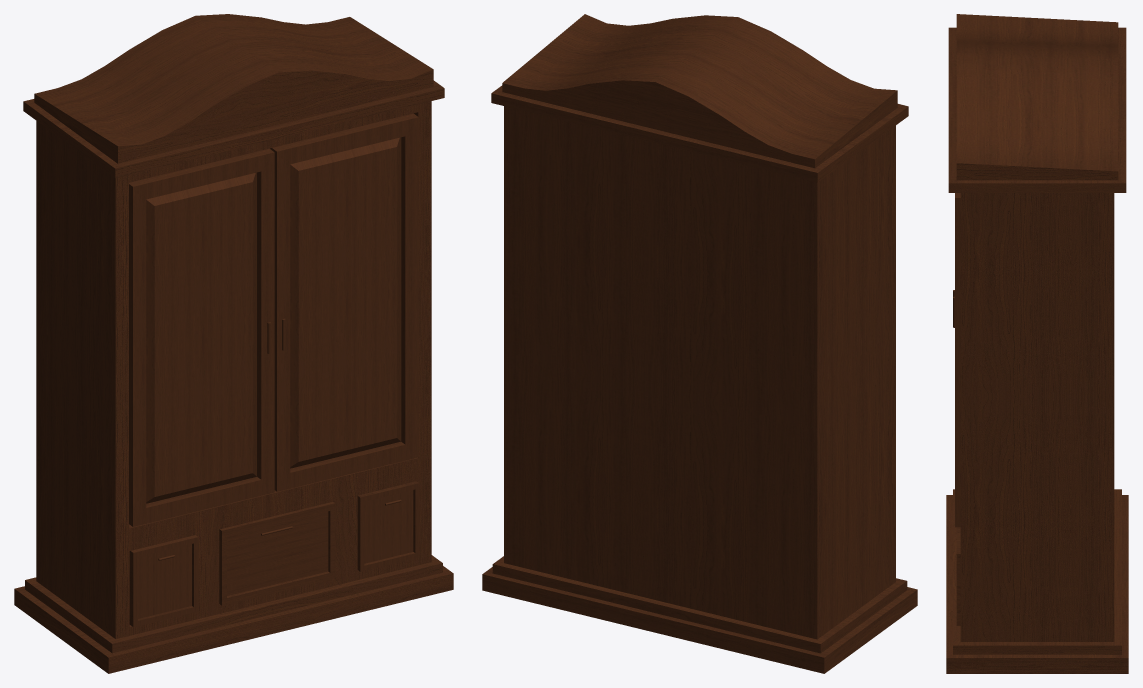
The model's file is closet.fbx.
The picture shows the model from 3 angles, left to right: view 1: azimuth 30°, elevation 25°; view 2: azimuth 150°, elevation 25°; view 3: azimuth 270°, elevation 25°; orthographic projection. The views are drawn at different scales.
Parts seen in each view (by area): view 1: closet, closetDoor1, closetDoor2, pCube4, pCube5, drawer; view 2: closet; view 3: closet, closetDoor2, drawer.
Part boxes in pixels (left/top/right/bottom): closet: left=14, top=14, right=453, bottom=673; closetDoor1: left=129, top=148, right=274, bottom=526; closetDoor2: left=270, top=113, right=418, bottom=491; pCube4: left=219, top=502, right=335, bottom=605; pCube5: left=129, top=535, right=198, bottom=627; drawer: left=357, top=481, right=419, bottom=571; closet: left=482, top=14, right=917, bottom=673; closet: left=946, top=14, right=1128, bottom=673; closetDoor2: left=955, top=193, right=960, bottom=527; drawer: left=956, top=527, right=960, bottom=625.
Size of the model in its own units: 143 by 220 by 67.56.
